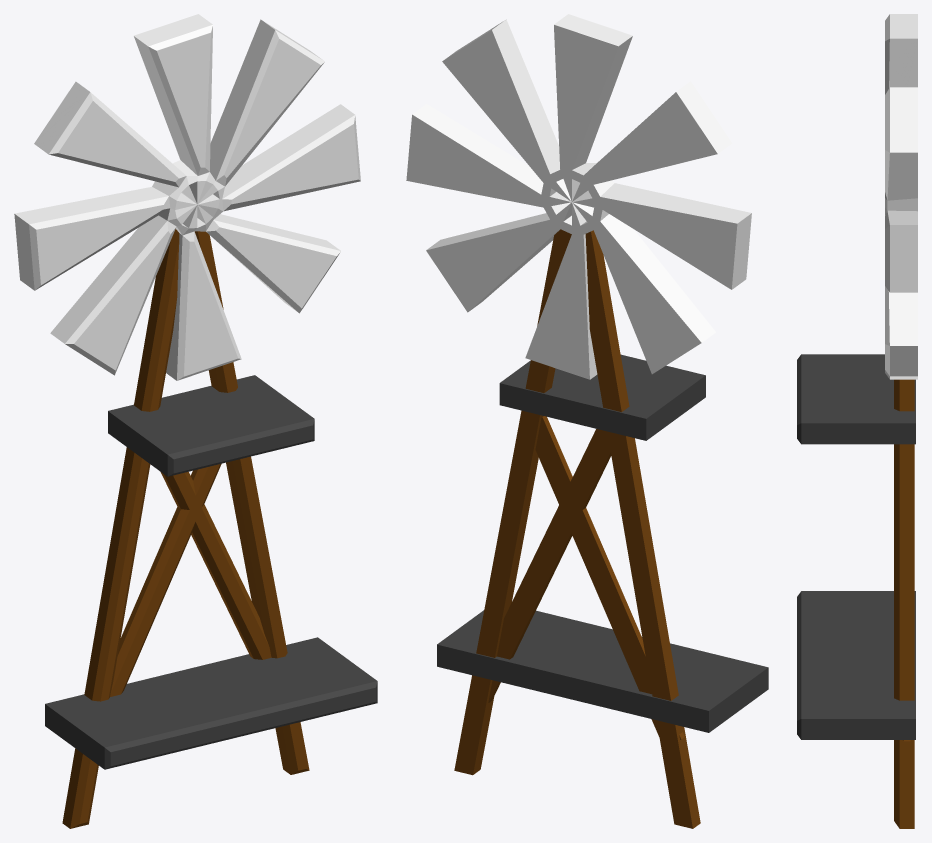
File: WINDMILL.fbx
3 renders of one model, left to right at view 1: azimuth 30°, elevation 25°; view 2: azimuth 150°, elevation 25°; view 3: azimuth 270°, elevation 25°, orthographic. The views are drawn at different scales.
Visible parts, largest first — view 1: Cube.003; view 2: Cube.003; view 3: Cube.003.
Boxes of the visible parts, bbox=[...] form: Cube.003: bbox=[14, 14, 377, 828]; Cube.003: bbox=[406, 14, 768, 828]; Cube.003: bbox=[797, 14, 917, 828].
Bounding box in the file's own units: 2240 × 4993 × 736.
